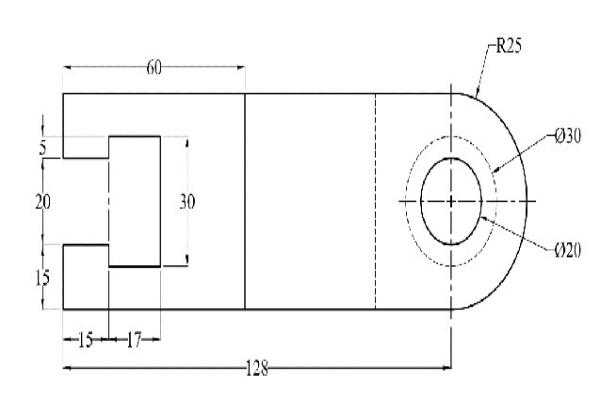dimensions: (553, 234, 587, 266), (553, 122, 587, 151), (494, 31, 525, 57), (243, 355, 275, 378), (121, 326, 147, 351), (73, 328, 100, 352), (174, 192, 203, 212), (32, 189, 56, 213), (143, 57, 167, 78), (33, 268, 56, 289), (34, 138, 51, 159)
